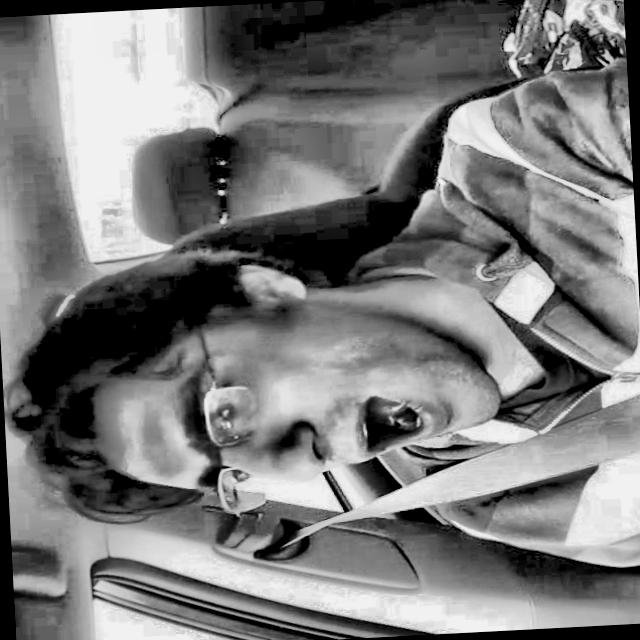open_eyes: (198, 382, 262, 445)
open_mouth: (330, 369, 454, 471)
